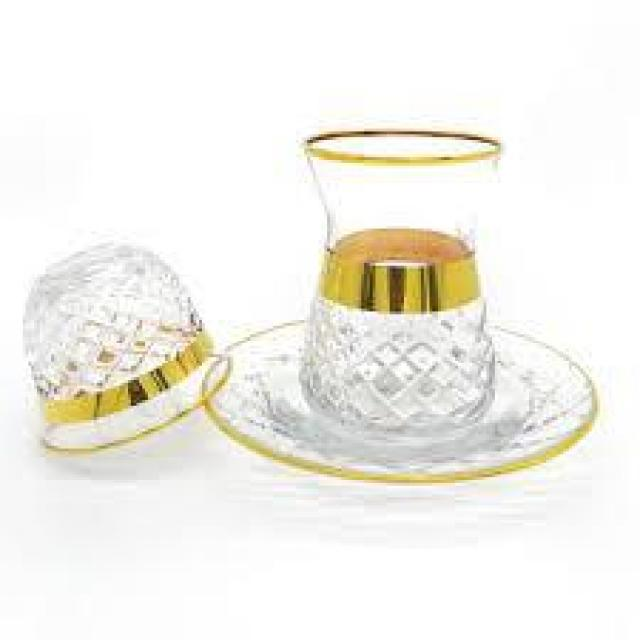non-organic waste: (199, 124, 603, 490), (22, 246, 228, 454)
